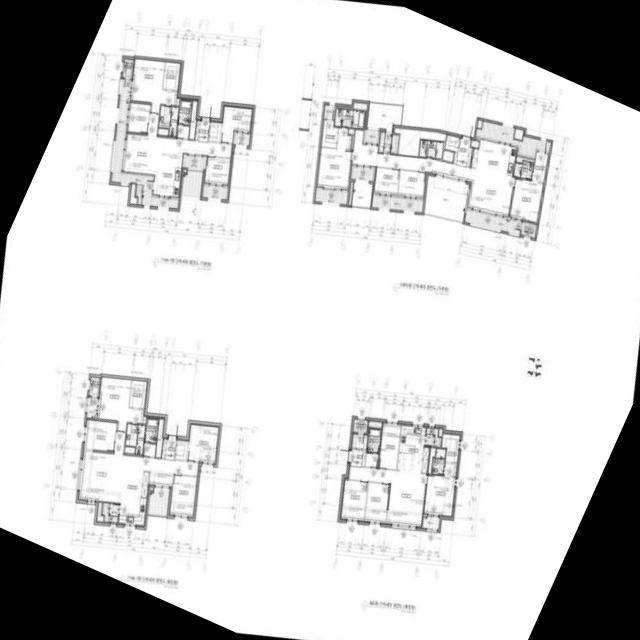background: (0, 0, 640, 640)
space_balconi: (111, 79, 179, 209), (476, 121, 551, 157), (424, 176, 469, 222), (465, 210, 522, 235), (367, 104, 403, 130), (372, 196, 424, 213), (181, 171, 203, 198), (148, 489, 169, 516), (315, 189, 348, 205), (352, 182, 373, 207), (379, 132, 399, 154), (202, 186, 228, 200), (102, 503, 119, 523), (425, 428, 441, 447), (352, 167, 373, 181), (184, 156, 204, 170), (422, 517, 440, 530), (87, 397, 98, 418), (234, 133, 250, 146), (365, 130, 379, 143), (324, 105, 335, 118)
space_bedroom: (131, 59, 177, 114), (98, 377, 144, 432), (317, 128, 352, 189), (424, 463, 457, 516), (510, 178, 543, 223), (187, 424, 219, 463), (221, 106, 253, 143), (170, 475, 198, 517), (341, 480, 368, 521), (84, 420, 116, 452), (365, 483, 389, 523), (398, 171, 426, 198), (205, 157, 231, 185), (127, 103, 150, 134), (374, 168, 400, 195)
space_dressroom: (442, 434, 460, 463), (163, 62, 181, 91), (532, 152, 548, 183), (130, 381, 147, 409), (322, 120, 338, 148)
space_front: (453, 139, 473, 167), (195, 119, 210, 143), (162, 439, 177, 461), (348, 449, 366, 467)
space_kitchen: (471, 139, 517, 177), (119, 470, 149, 525), (397, 426, 429, 474), (153, 152, 183, 197)
space_living_room: (352, 130, 515, 217), (79, 432, 199, 503), (122, 113, 233, 176), (349, 467, 426, 527)
space_other: (395, 129, 446, 157), (379, 424, 401, 470), (149, 471, 173, 487), (189, 101, 198, 140), (156, 420, 165, 458), (209, 121, 222, 142), (445, 135, 460, 152), (175, 441, 188, 460), (352, 434, 368, 449), (428, 448, 436, 474), (143, 444, 156, 457), (366, 454, 378, 468), (96, 503, 104, 523), (177, 126, 189, 139), (130, 184, 137, 204), (443, 151, 454, 162), (514, 129, 524, 140), (516, 157, 534, 163), (349, 129, 354, 149), (349, 182, 353, 206), (354, 103, 367, 110), (369, 422, 382, 428), (158, 129, 168, 136), (471, 141, 479, 148), (477, 120, 482, 129), (439, 429, 443, 437), (177, 97, 180, 106), (143, 416, 146, 424), (150, 487, 153, 491), (184, 170, 186, 173)
space_outdoor_room: (521, 222, 537, 238), (89, 377, 100, 397), (123, 59, 134, 79), (353, 419, 368, 433)
space_toilet: (124, 424, 145, 455), (159, 106, 179, 137), (335, 109, 365, 129), (419, 140, 443, 159), (432, 449, 446, 475), (514, 162, 534, 180), (178, 100, 192, 125), (367, 429, 381, 453), (145, 419, 158, 443)
